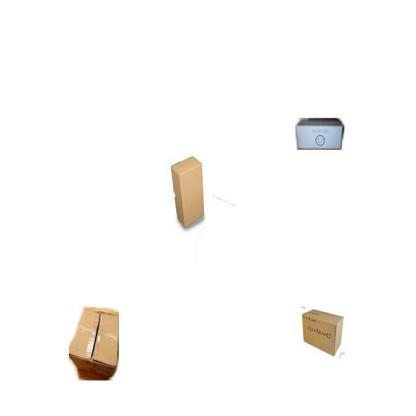package: (71, 309, 120, 381), (171, 156, 203, 230), (303, 309, 343, 357), (296, 120, 343, 149)
